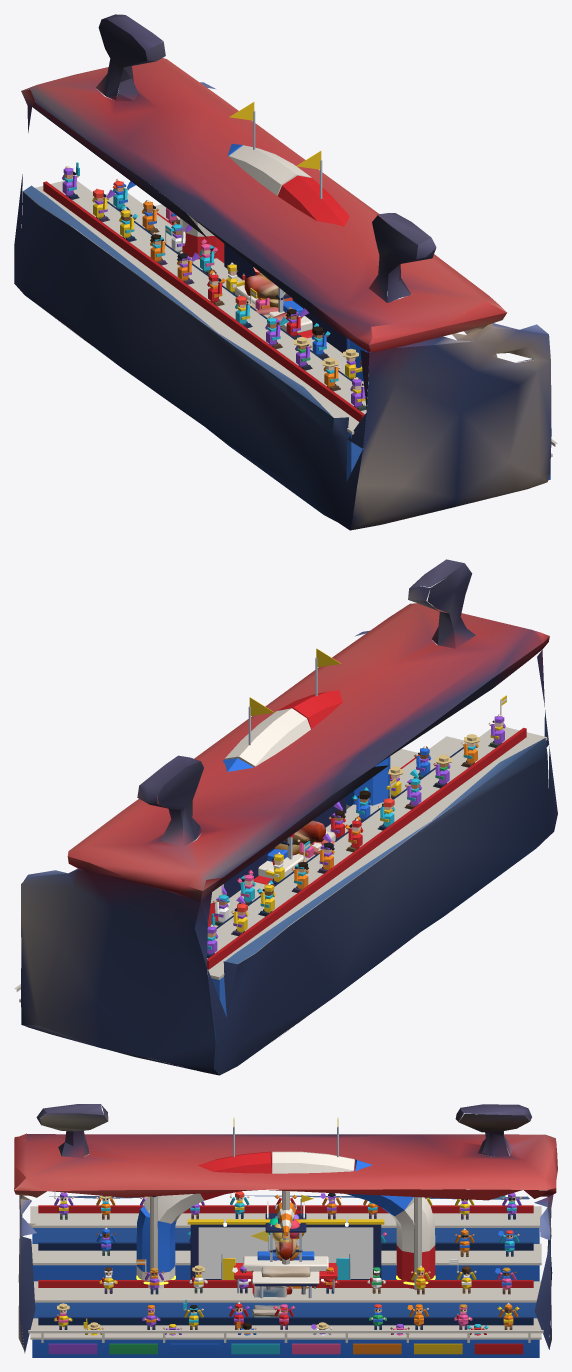
File: shared.glb
3 renders of one model, top to bottom at view 1: azimuth 30°, elevation 25°; view 2: azimuth 150°, elevation 25°; view 3: azimuth 270°, elevation 25°, orthographic. The views are drawn at different scales.
Visible parts, largest first — view 1: frame (×4), crowd, prop-inflatable_arch, crowd_arms; view 2: frame (×4), crowd, prop-inflatable_arch, crowd_arms; view 3: frame (×5), prop-inflatable_arch, crowd, face, crowd_arms, prop-rain_shelter, prop-photo_tower, prop-windsock, prop-balloon_bunch.
Part boxes in pixels (<box>): frame (×4): <box>14,14,557,530</box>; crowd: <box>62,166,366,410</box>; prop-inflatable_arch: <box>180,102,387,381</box>; crowd_arms: <box>62,162,368,398</box>; frame (×4): <box>14,559,557,1075</box>; crowd: <box>207,714,504,958</box>; prop-inflatable_arch: <box>186,648,390,926</box>; crowd_arms: <box>207,695,506,945</box>; frame (×5): <box>14,1104,557,1357</box>; prop-inflatable_arch: <box>136,1118,435,1288</box>; crowd: <box>57,1191,516,1335</box>; face: <box>198,1227,373,1278</box>; crowd_arms: <box>54,1192,521,1334</box>; prop-rain_shelter: <box>252,1271,319,1298</box>; prop-photo_tower: <box>265,1194,313,1261</box>; prop-windsock: <box>275,1202,302,1237</box>; prop-balloon_bunch: <box>268,1214,304,1242</box>.
Bounding box in the file's own units: 9.51 × 11.16 × 26.8.
